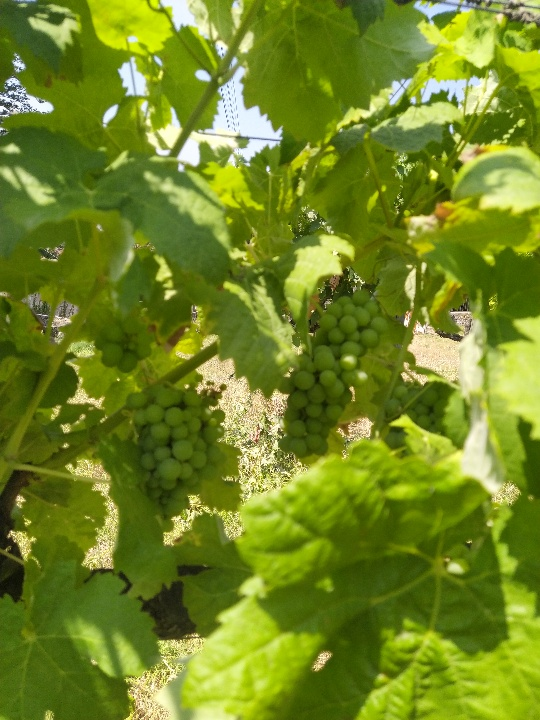grape: (276, 287, 391, 460), (123, 385, 226, 518)
